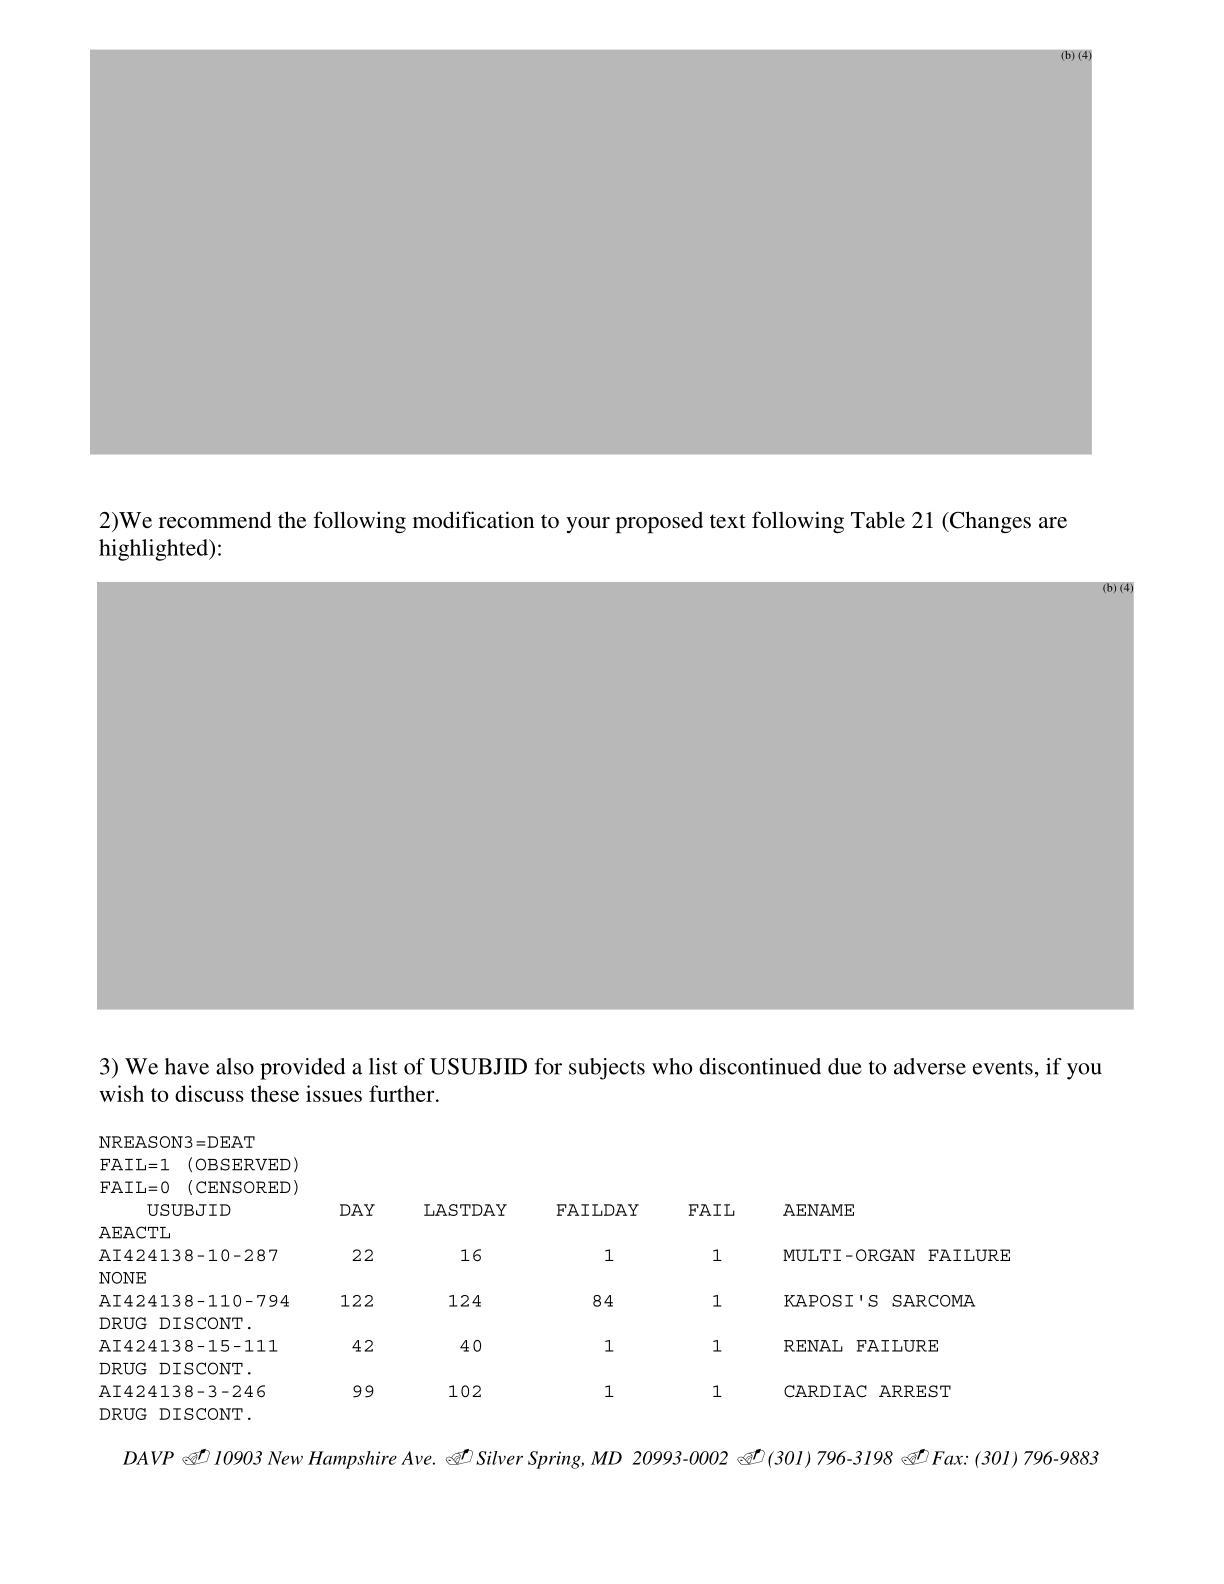nolines: (91, 1200, 1014, 1425)
